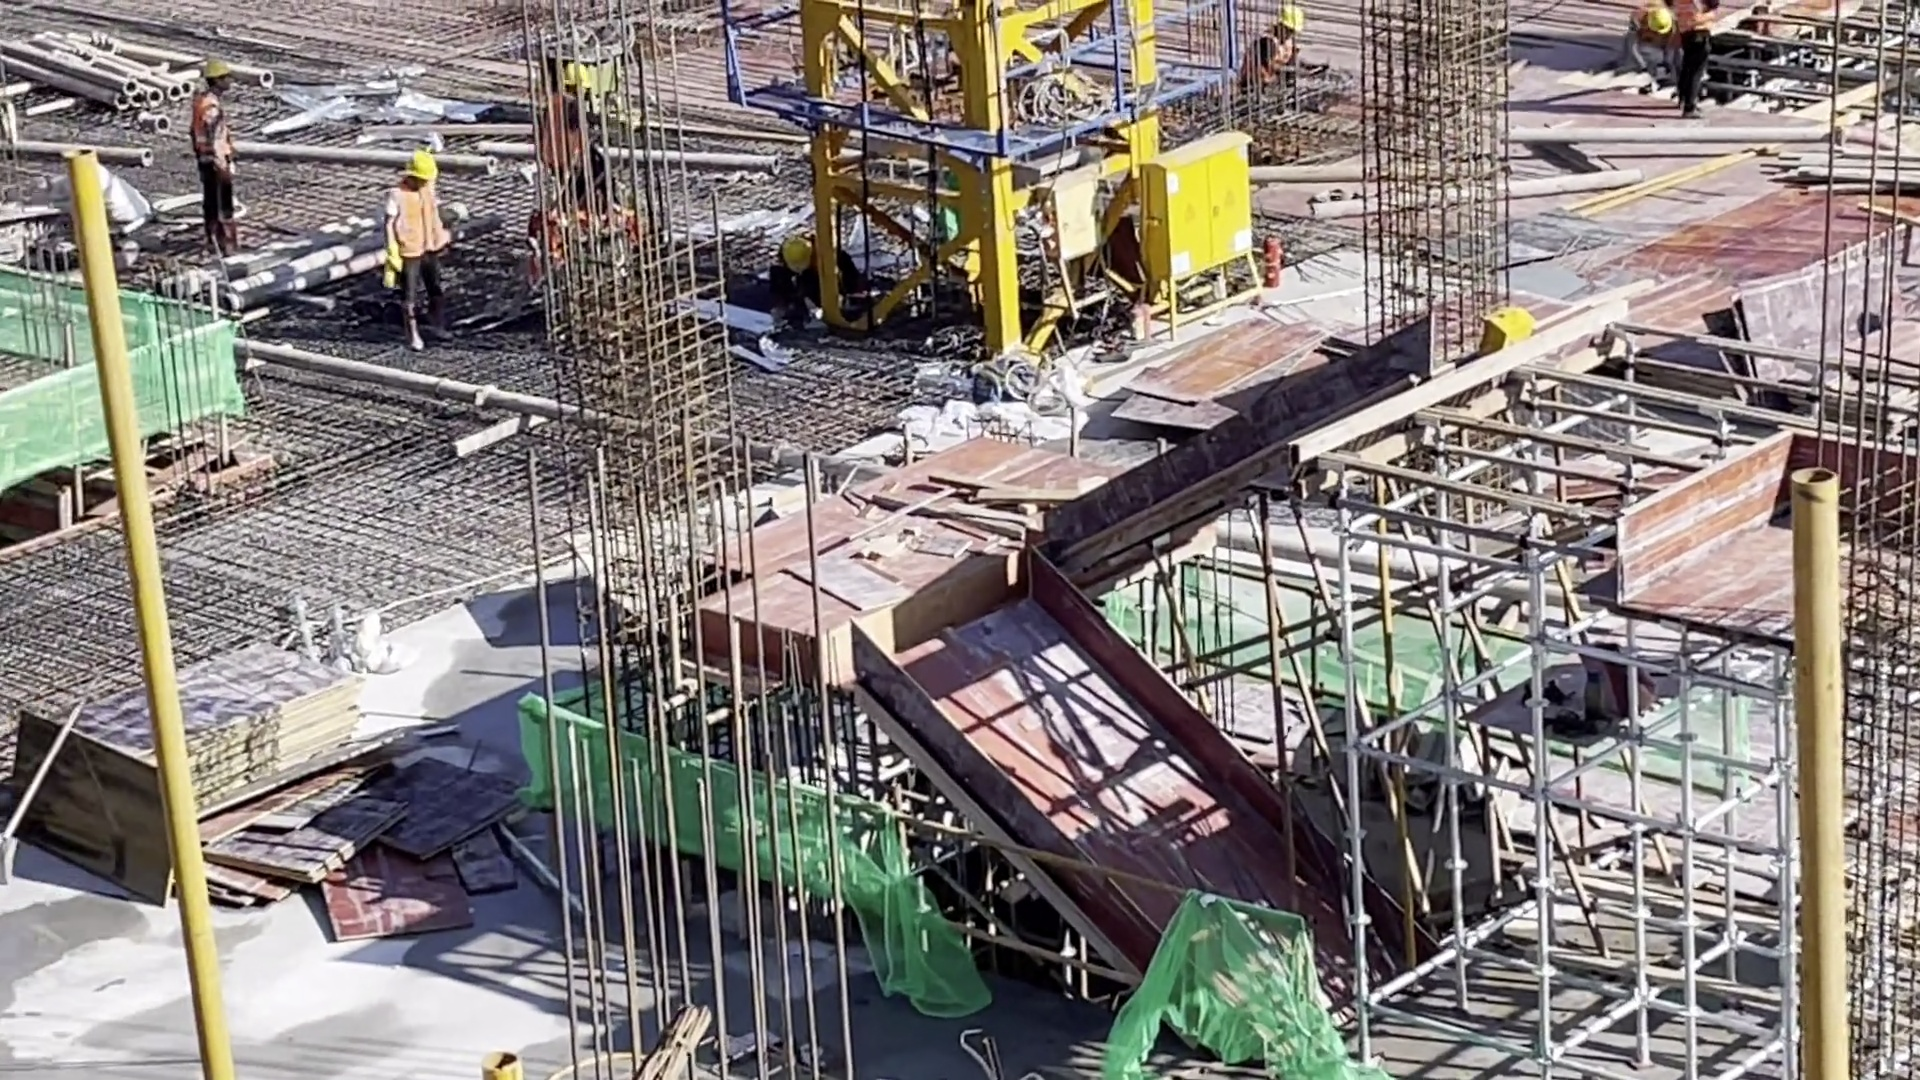helmet: (396, 145, 441, 179), (785, 236, 811, 268), (1646, 6, 1672, 38), (195, 62, 232, 84), (563, 62, 589, 87), (1281, 6, 1299, 31)
person: (380, 149, 469, 352), (189, 58, 256, 256), (771, 227, 866, 322), (537, 65, 604, 195), (1236, 2, 1314, 115), (1677, 2, 1718, 124), (1618, 5, 1673, 67)
vest: (385, 190, 446, 261), (1241, 32, 1291, 106), (192, 93, 237, 172), (543, 93, 587, 169), (1681, 3, 1710, 38)
